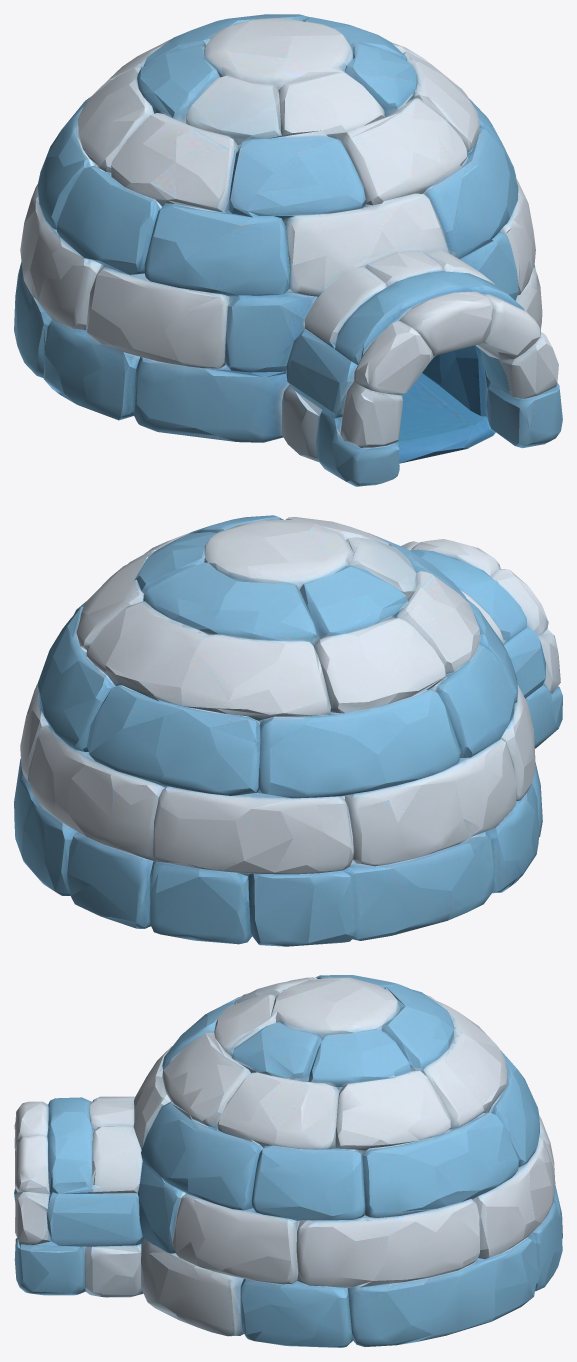
The model's file is sne-iglo.glb.
The picture shows the model from 3 angles, top to bottom: view 1: azimuth 30°, elevation 25°; view 2: azimuth 150°, elevation 25°; view 3: azimuth 270°, elevation 25°; orthographic projection. The views are drawn at different scales.
Size of the model in its own units: 1.6 by 0.9881 by 1.9.
1 material, 1 textured.
